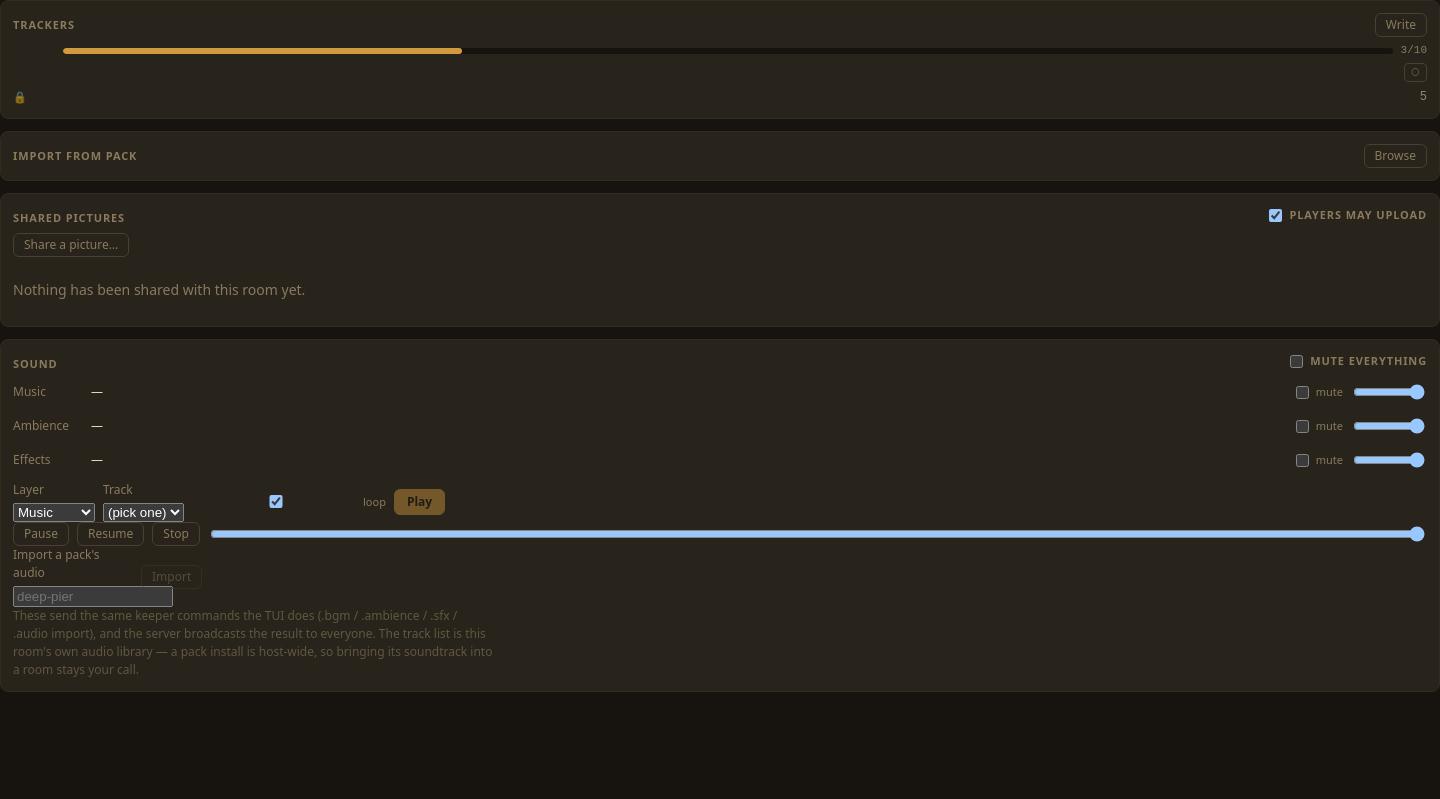
it: keeper variable writes › is off until the keeper asks for it
Click the button "Write" at (1401, 25), box [1375,13,1427,37]
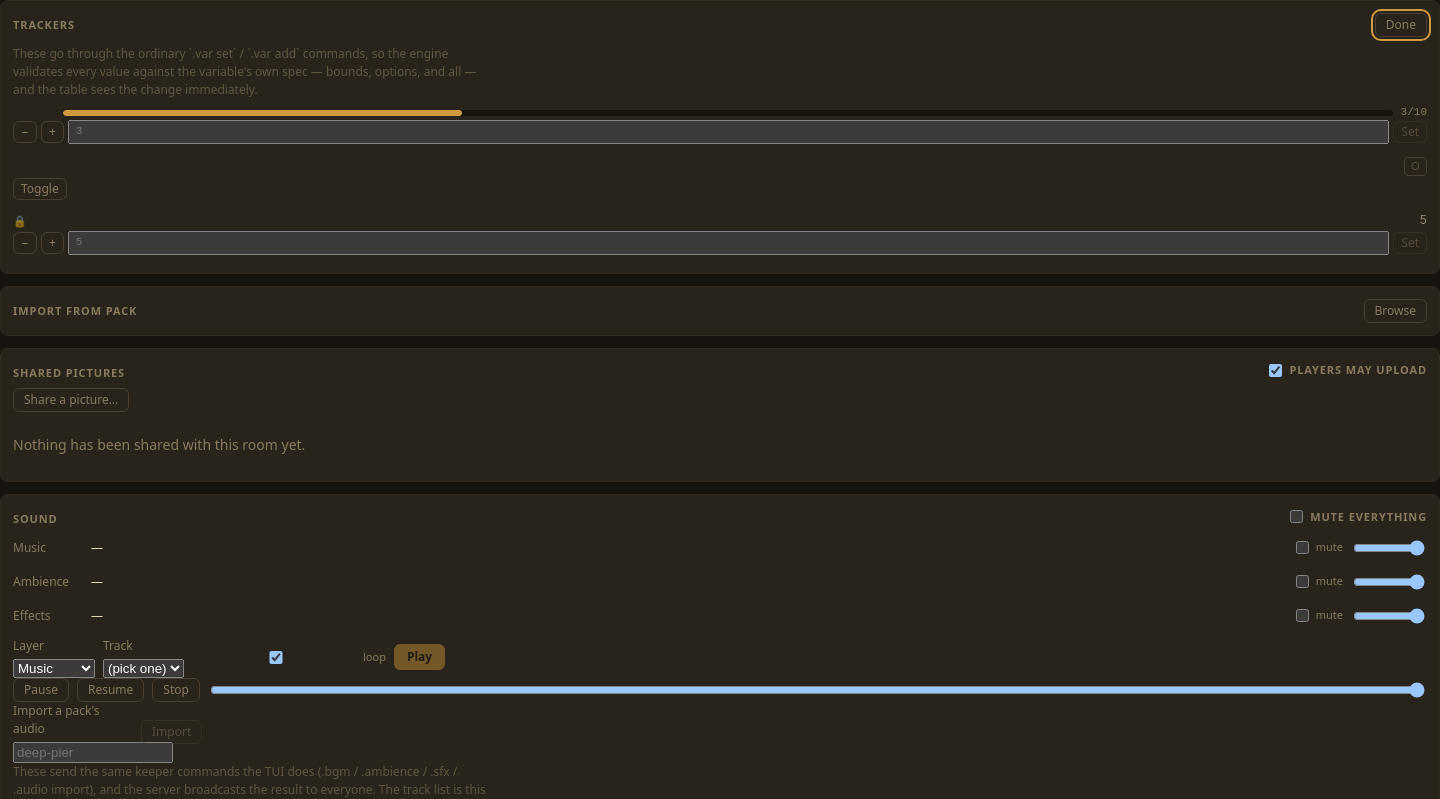
Result: the button named "Increase Fear" is shown at [41,121,64,143]
